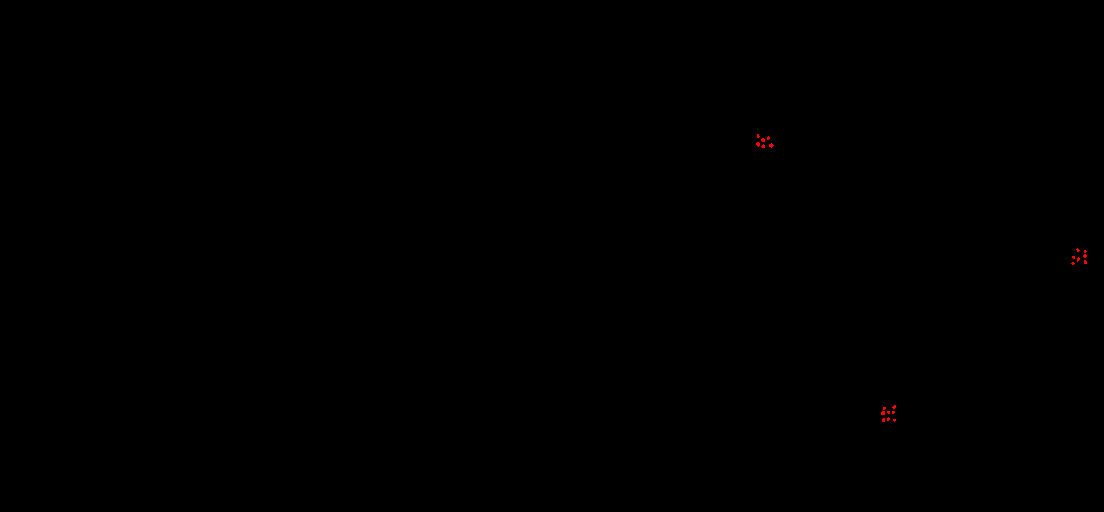Target: (769, 143, 774, 148), (756, 142, 760, 147), (761, 138, 765, 142), (761, 144, 765, 148), (1076, 248, 1080, 252), (1083, 254, 1087, 258), (892, 405, 896, 409), (881, 411, 885, 415), (1077, 257, 1080, 262), (757, 134, 760, 138), (767, 136, 770, 140), (1084, 260, 1087, 264), (1071, 262, 1075, 265), (887, 417, 890, 421), (882, 418, 885, 422), (1084, 250, 1087, 253), (1072, 256, 1075, 259), (883, 407, 886, 410), (887, 411, 890, 414), (892, 411, 895, 414), (893, 419, 896, 422)
